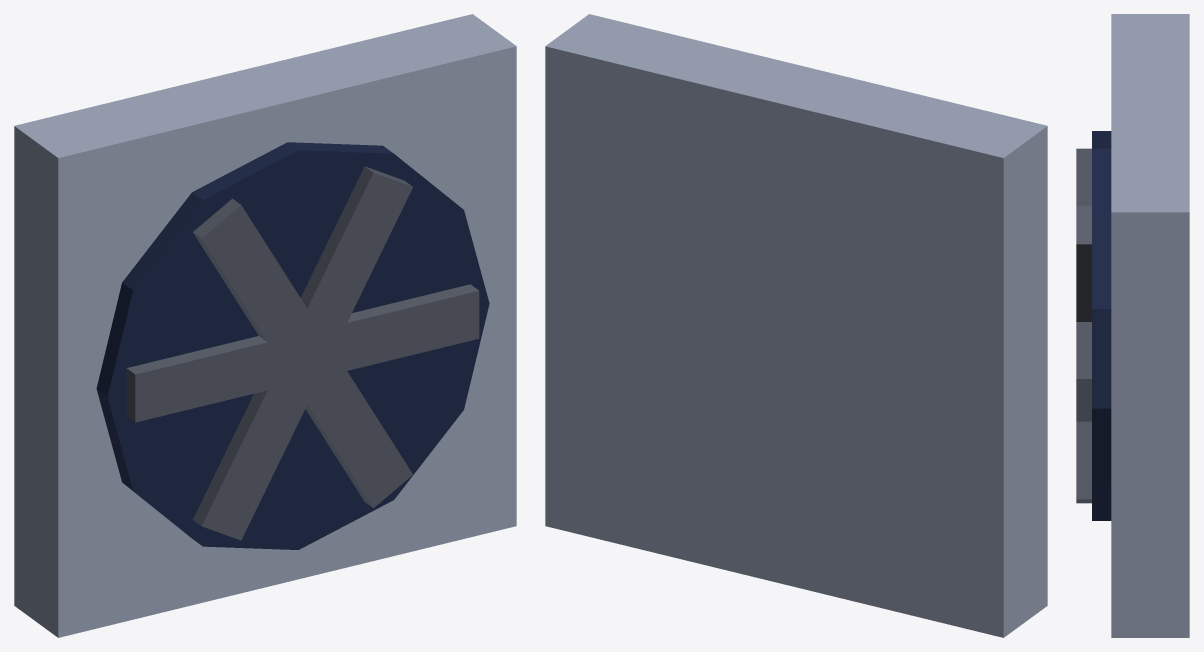
The model's file is stationpack-vent-fan.glb.
3 views of the same model, side by side, from view 1: azimuth 30°, elevation 25°; view 2: azimuth 150°, elevation 25°; view 3: azimuth 270°, elevation 25° (orthographic). The views are drawn at different scales.
Visible parts, largest first — view 1: vent_fan; view 2: vent_fan; view 3: vent_fan.
Part boxes in pixels (x1,y1,x2,y2): vent_fan: (14, 14, 516, 637); vent_fan: (545, 14, 1047, 637); vent_fan: (1076, 14, 1189, 637).
Bounding box in the file's own units: 1.2 × 1.2 × 0.29.
